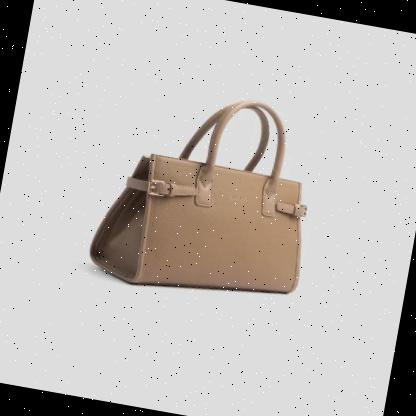bag: (75, 69, 340, 320)
